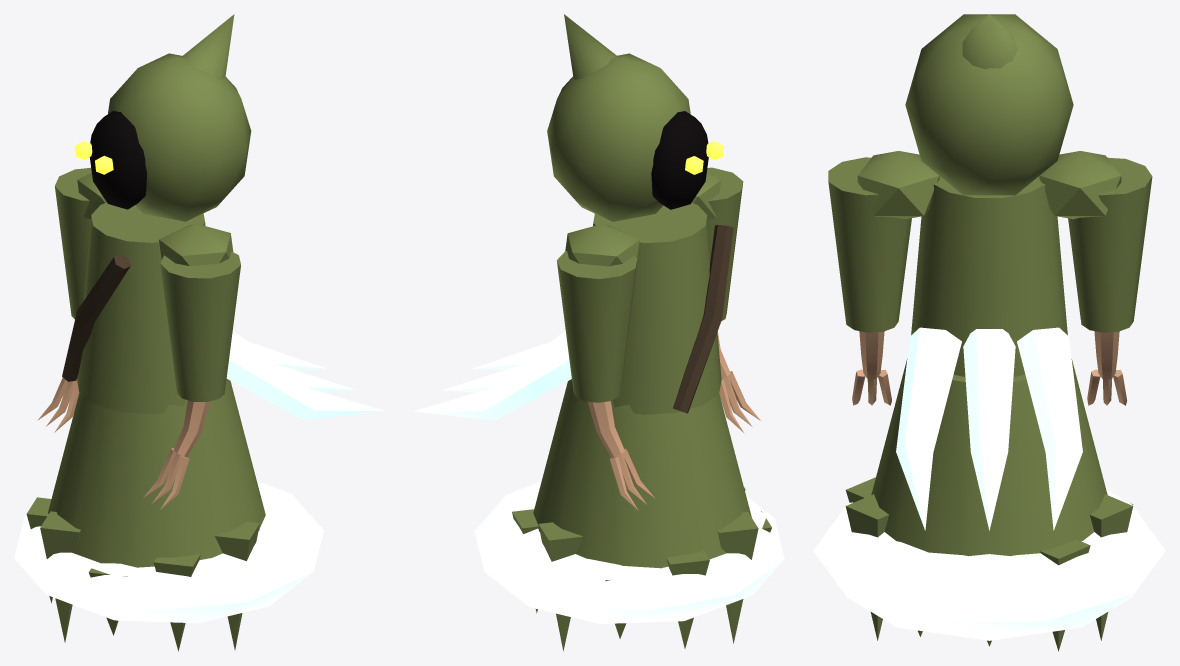
File: m_wraith.glb
3 views of the same model, side by side, from view 1: azimuth 30°, elevation 25°; view 2: azimuth 150°, elevation 25°; view 3: azimuth 270°, elevation 25° (orthographic). The views are drawn at different scales.
Parts seen in each view (by area): view 1: body, head, armL, armR; view 2: body, head, armR, armL; view 3: body, head, armR, armL.
Boxes of the visible parts, <box> form: body: <box>14,173,383,651</box>; head: <box>74,14,251,221</box>; armL: <box>143,251,240,509</box>; armR: <box>37,167,91,432</box>; body: <box>414,173,784,651</box>; head: <box>547,14,723,221</box>; armR: <box>556,251,654,510</box>; armL: <box>706,167,760,433</box>; body: <box>813,151,1165,651</box>; head: <box>905,14,1073,195</box>; armR: <box>1068,157,1152,405</box>; armL: <box>828,157,911,405</box>.
Bounding box in the file's own units: 0.7638 × 1.35 × 0.66.
